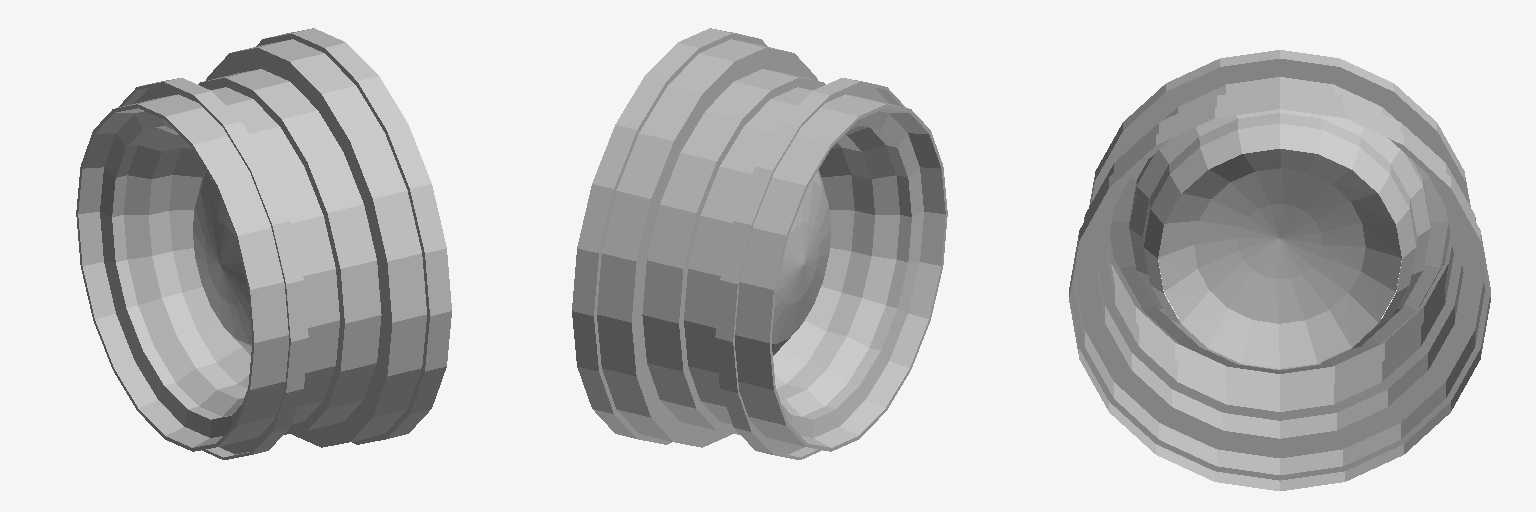
File: CameraExport4.obj
The picture shows the model from 3 angles: view 1: azimuth 30°, elevation 25°; view 2: azimuth 150°, elevation 25°; view 3: azimuth 270°, elevation 25°; orthographic projection.
Parts seen in each view (by area): view 1: polySurface5 pCylinder5, pCylinder5 polySurface6; view 2: polySurface5 pCylinder5, pCylinder5 polySurface6; view 3: polySurface5 pCylinder5, pCylinder5 polySurface6.
Part boxes in pixels (left/top/right/bottom): polySurface5 pCylinder5: left=76, top=28, right=451, bottom=459; pCylinder5 polySurface6: left=193, top=170, right=251, bottom=355; polySurface5 pCylinder5: left=572, top=28, right=947, bottom=459; pCylinder5 polySurface6: left=772, top=170, right=830, bottom=355; polySurface5 pCylinder5: left=1069, top=50, right=1490, bottom=490; pCylinder5 polySurface6: left=1158, top=149, right=1401, bottom=368.
Size of the model in its own units: 0.8772 by 1.77 by 1.77.